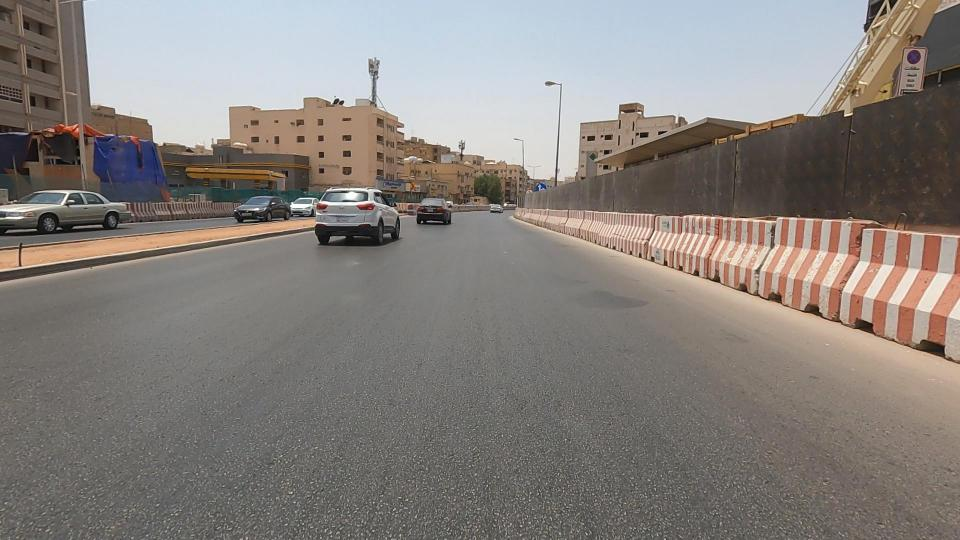CONSTRUCTION_ROAD: (568, 98, 960, 347), (494, 151, 702, 279), (100, 157, 195, 239), (153, 169, 261, 225)
